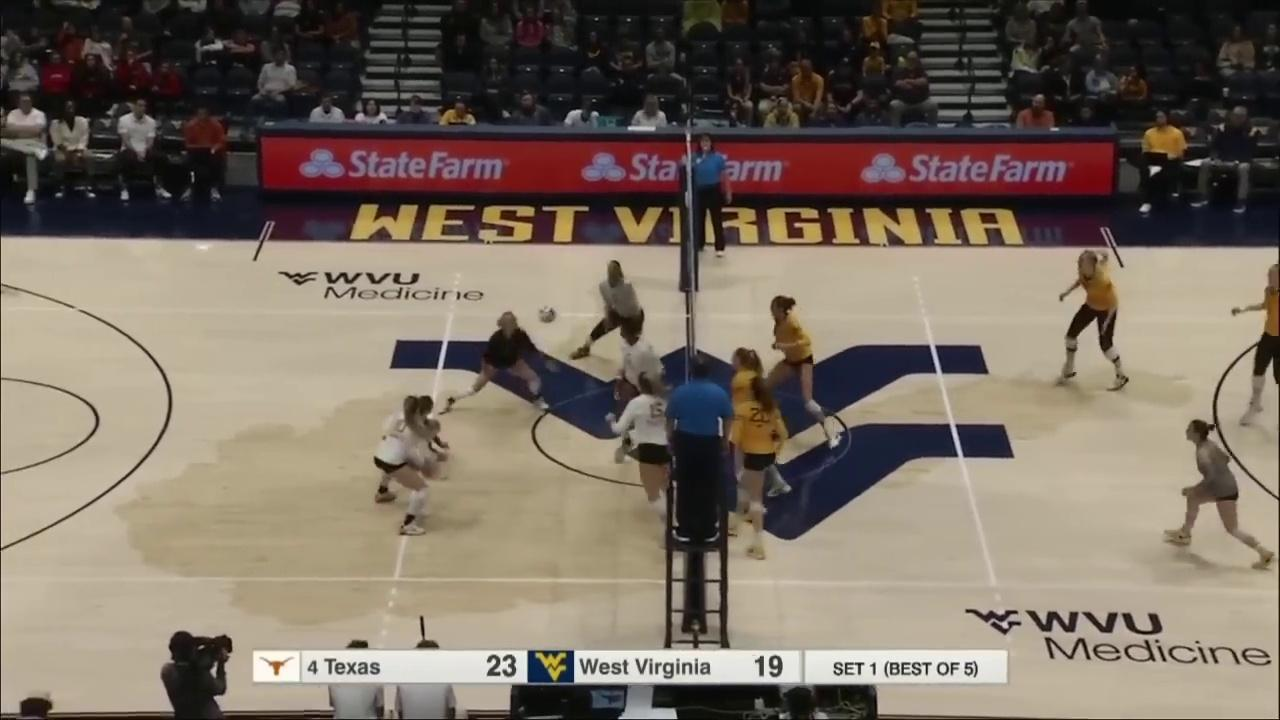player: (1162, 416, 1277, 573), (755, 297, 844, 445), (374, 392, 452, 538), (719, 348, 794, 497), (445, 309, 549, 411), (729, 383, 788, 562), (1054, 252, 1129, 392), (1222, 263, 1280, 423), (622, 375, 679, 536), (570, 259, 647, 363), (616, 322, 667, 465), (387, 395, 449, 492)
refree: (669, 362, 730, 545), (680, 132, 731, 252)
